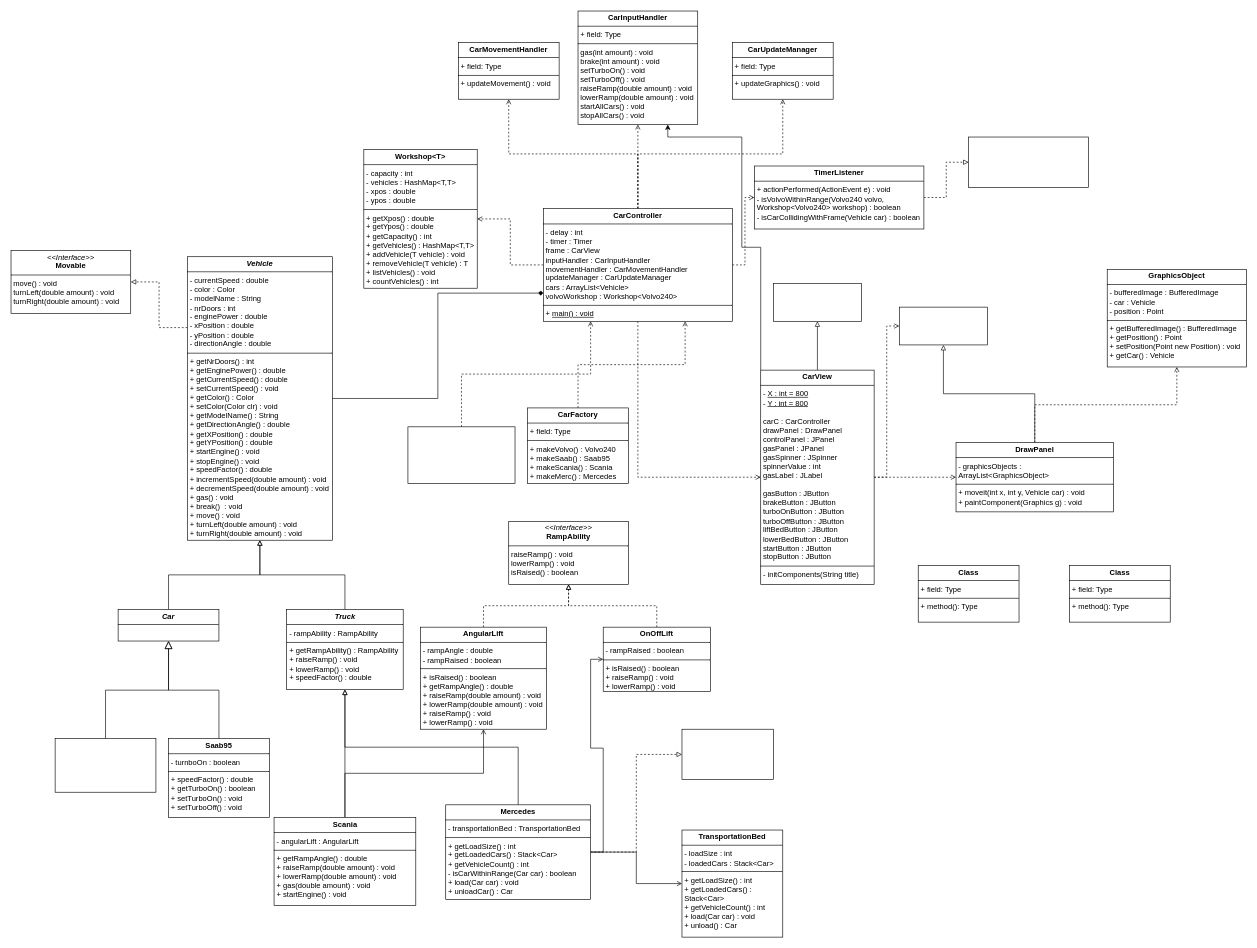
The diagram is 1257 pixels wide and 948 high, and some of its shapes have lost their labels. The shapes that lost their labels are listed below. From the top down, each one's centre as x and y in pixels, then its label:
the point at 1028,161: <<Interface>> ActionListener
the point at 817,302: JFrame
the point at 943,325: JPanel
the point at 461,455: Main - carController : CarController + main() : void
the point at 105,765: Volvo240 + trimFactor : double + speedFactor() : double
the point at 727,754: <<Interface>> Loadable loadCar(Car car) : void unloadCar() : Car
